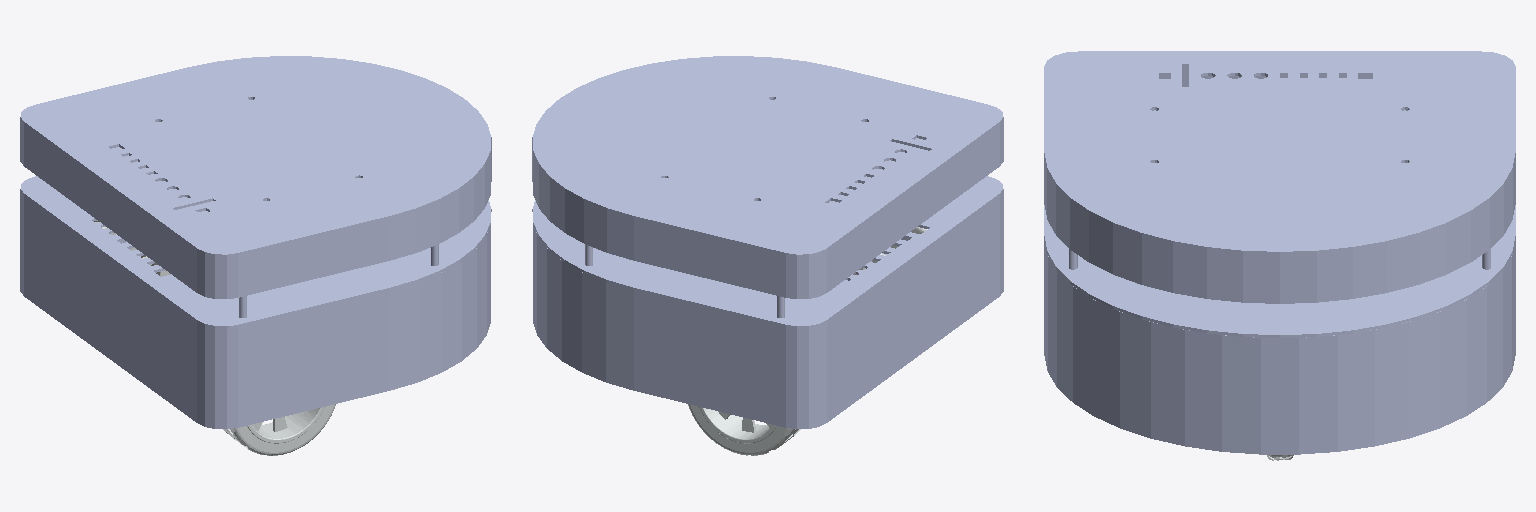
URDF robot description (meshesotravez):
<?xml version="1.0" encoding="utf-8"?>
<!-- This URDF was automatically created by SolidWorks to URDF Exporter! Originally created by [author] ([email redacted]) 
     Commit Version: 1.6.0-4-g7f85cfe  Build Version: 1.6.7995.38578
     For more information, please see http://wiki.ros.org/sw_urdf_exporter -->
<robot
  name="meshesotravez">
  <link
    name="base_link">
    <inertial>
      <origin
        xyz="-0.002876 -0.00013597 -0.085753"
        rpy="0 0 0" />
      <mass
        value="2.4215" />
      <inertia
        ixx="0.038812"
        ixy="2.4997E-05"
        ixz="0.00013349"
        iyy="0.038259"
        iyz="-1.0929E-18"
        izz="0.074597" />
    </inertial>
    <visual>
      <origin
        xyz="0 0 0"
        rpy="0 0 0" />
      <geometry>
        <mesh
          filename="package://robot_description/meshes/base_link.STL" />
      </geometry>
      <material
        name="">
        <color
          rgba="0.79216 0.81961 0.93333 1" />
      </material>
    </visual>
    <collision>
      <origin
        xyz="0 0 0"
        rpy="0 0 0" />
      <geometry>
        <mesh
          filename="package://robot_description/meshes/base_link.STL" />
      </geometry>
    </collision>
  </link>
  <link
    name="wheel_left_link">
    <inertial>
      <origin
        xyz="1.3352E-09 8.1843E-10 0.020002"
        rpy="0 0 0" />
      <mass
        value="0.26047" />
      <inertia
        ixx="0.00041201"
        ixy="-9.6755E-12"
        ixz="-2.527E-12"
        iyy="0.00041201"
        iyz="3.1287E-12"
        izz="0.00076355" />
    </inertial>
    <visual>
      <origin
        xyz="0 0 0"
        rpy="0 0 0" />
      <geometry>
        <mesh
          filename="package://robot_description/meshes/wheel_left_link.STL" />
      </geometry>
      <material
        name="">
        <color
          rgba="0.90196 0.92157 0.92157 1" />
      </material>
    </visual>
    <collision>
      <origin
        xyz="0 0 0"
        rpy="0 0 0" />
      <geometry>
        <mesh
          filename="package://robot_description/meshes/wheel_left_link.STL" />
      </geometry>
    </collision>
  </link>
  <joint
    name="wheel_left_joint"
    type="continuous">
    <origin
      xyz="-0.091483 0.14579 -0.185"
      rpy="-1.5708 0 0" />
    <parent
      link="base_link" />
    <child
      link="wheel_left_link" />
    <axis
      xyz="0 0 1" />
    <limit
      effort="100"
      velocity="100" />
    <dynamics
      damping="0.1"
      friction="0.1" />
  </joint>
  <link
    name="wheel_right_link">
    <inertial>
      <origin
        xyz="-1.2885E-09 8.9862E-10 -0.020002"
        rpy="0 0 0" />
      <mass
        value="0.26047" />
      <inertia
        ixx="0.00041201"
        ixy="8.7204E-12"
        ixz="-2.7551E-12"
        iyy="0.00041201"
        iyz="-2.9859E-12"
        izz="0.00076355" />
    </inertial>
    <visual>
      <origin
        xyz="0 0 0"
        rpy="0 0 0" />
      <geometry>
        <mesh
          filename="package://robot_description/meshes/wheel_right_link.STL" />
      </geometry>
      <material
        name="">
        <color
          rgba="0.90196 0.92157 0.92157 1" />
      </material>
    </visual>
    <collision>
      <origin
        xyz="0 0 0"
        rpy="0 0 0" />
      <geometry>
        <mesh
          filename="package://robot_description/meshes/wheel_right_link.STL" />
      </geometry>
    </collision>
  </link>
  <joint
    name="wheel_right_joint"
    type="continuous">
    <origin
      xyz="-0.091483 -0.14621 -0.185"
      rpy="1.5708 0 3.1416" />
    <parent
      link="base_link" />
    <child
      link="wheel_right_link" />
    <axis
      xyz="0 0 1" />
    <limit
      effort="100"
      velocity="100" />
    <dynamics
      damping="0.1"
      friction="0.1" />
  </joint>
  <link
    name="base_castor_link">
    <inertial>
      <origin
        xyz="0 -2.08166817117217E-16 0.0141762813814508"
        rpy="0 0 0" />
      <mass
        value="0.0128281265837759" />
      <inertia
        ixx="4.35042978378941E-06"
        ixy="3.92733826540723E-09"
        ixz="1.43398637306382E-21"
        iyy="4.22331083836077E-06"
        iyz="-1.23330561063615E-21"
        izz="3.9070765868801E-06" />
    </inertial>
    <visual>
      <origin
        xyz="0 0 0"
        rpy="0 0 0" />
      <geometry>
        <mesh
          filename="package://robot_description/meshes/base_castor_link.STL" />
      </geometry>
      <material
        name="">
        <color
          rgba="0.792156862745098 0.819607843137255 0.933333333333333 1" />
      </material>
    </visual>
    <collision>
      <origin
        xyz="0 0 0"
        rpy="0 0 0" />
      <geometry>
        <mesh
          filename="package://robot_description/meshes/base_castor_link.STL" />
      </geometry>
    </collision>
  </link>
  <joint
    name="base_castor_joint"
    type="continuous">
    <origin
      xyz="0.11102 -0.00020838 -0.18058"
      rpy="3.1416 0 0" />
    <parent
      link="base_link" />
    <child
      link="base_castor_link" />
    <axis
      xyz="0 0 1" />
    <limit
      effort="100"
      velocity="100" />
    <dynamics
      damping="0.1"
      friction="0.1" />
  </joint>
  <link
    name="wheel_castor_link">
    <inertial>
      <origin
        xyz="5.67686175845239E-11 -2.52227516650549E-10 -2.34009084454558E-05"
        rpy="0 0 0" />
      <mass
        value="0.0459793119455567" />
      <inertia
        ixx="1.36058585628758E-05"
        ixy="-2.60865520999119E-13"
        ixz="2.2071502932371E-13"
        iyy="1.36058594056942E-05"
        iyz="1.10966438522062E-14"
        izz="2.31589723867144E-05" />
    </inertial>
    <visual>
      <origin
        xyz="0 0 0"
        rpy="0 0 0" />
      <geometry>
        <mesh
          filename="package://robot_description/meshes/wheel_castor_link.STL" />
      </geometry>
      <material
        name="">
        <color
          rgba="0.901960784313726 0.92156862745098 0.92156862745098 1" />
      </material>
    </visual>
    <collision>
      <origin
        xyz="0 0 0"
        rpy="0 0 0" />
      <geometry>
        <mesh
          filename="package://robot_description/meshes/wheel_castor_link.STL" />
      </geometry>
    </collision>
  </link>
  <joint
    name="wheel_castor_joint"
    type="continuous">
    <origin
      xyz="0 0 0.039416"
      rpy="1.5399 -1.5708 0" />
    <parent
      link="base_castor_link" />
    <child
      link="wheel_castor_link" />
    <axis
      xyz="0 0 1" />
    <limit
      effort="100"
      velocity="100" />
    <dynamics
      damping="0.1"
      friction="0.1" />
  </joint>
</robot>

--- What the picture shows (computed from the rendered views, not written in the file) ---
3 views of the same robot in one strip: view 1: azimuth 30°, elevation 25°; view 2: azimuth 150°, elevation 25°; view 3: azimuth 270°, elevation 25° (orthographic).
Robot: meshesotravez — 5 links, 4 joints (4 continuous); root link base_link; default pose: all joints at 0.
Visible links, largest first — view 1: base_link, wheel_right_link; view 2: base_link, wheel_left_link; view 3: base_link.
Link boxes in pixels (x1,y1,x2,y2): base_link: (20,56,491,428); wheel_right_link: (223,404,335,455); base_link: (532,56,1003,428); wheel_left_link: (688,404,800,455); base_link: (1044,51,1515,454).
Size in the robot's own frame: 0.413 by 0.41 by 0.25 metres.
Meshes: 5 distinct files referenced, 5 mesh visuals loaded (5 binary STL).
